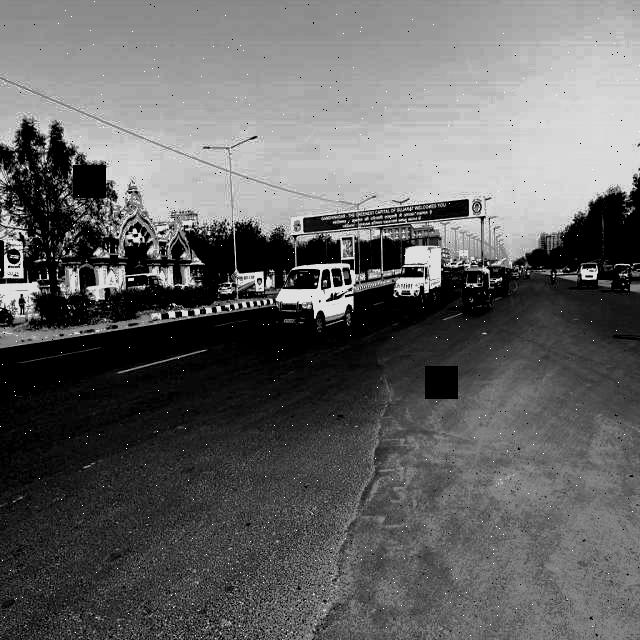Auto-Rickshaw: (456, 263, 495, 319), (83, 282, 119, 306), (609, 259, 631, 294)
